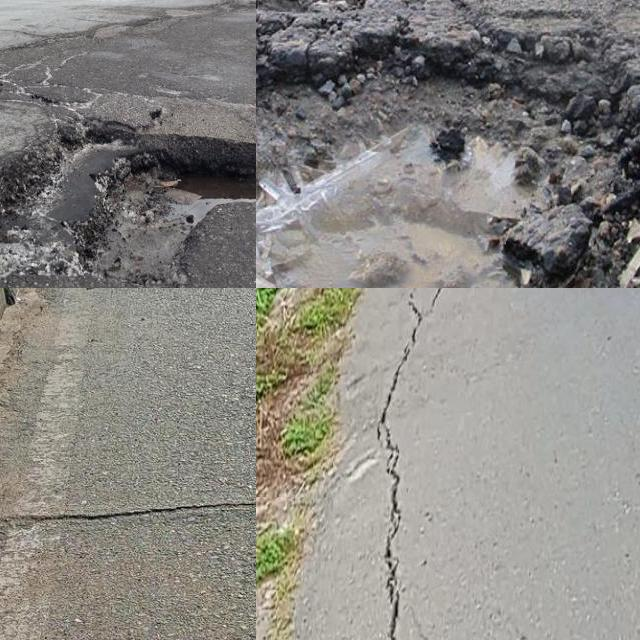Lubang: (256, 36, 640, 288), (0, 116, 256, 287)
Melintang: (0, 488, 256, 538)
Memanjang: (366, 288, 451, 640)
